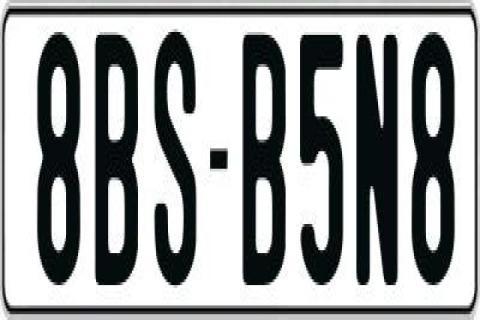0: (408, 29, 456, 299), (36, 27, 84, 286), (300, 32, 344, 296)
B: (240, 29, 290, 282), (92, 32, 138, 282)
N: (356, 26, 400, 288)
S: (154, 23, 196, 276)
